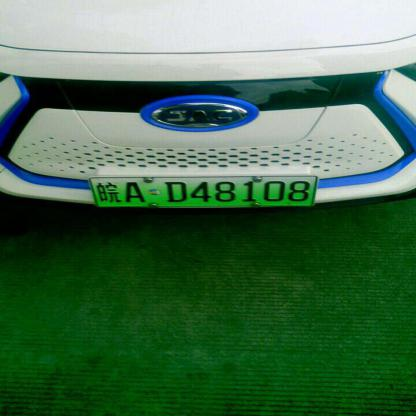lp: (88, 176, 318, 207)
